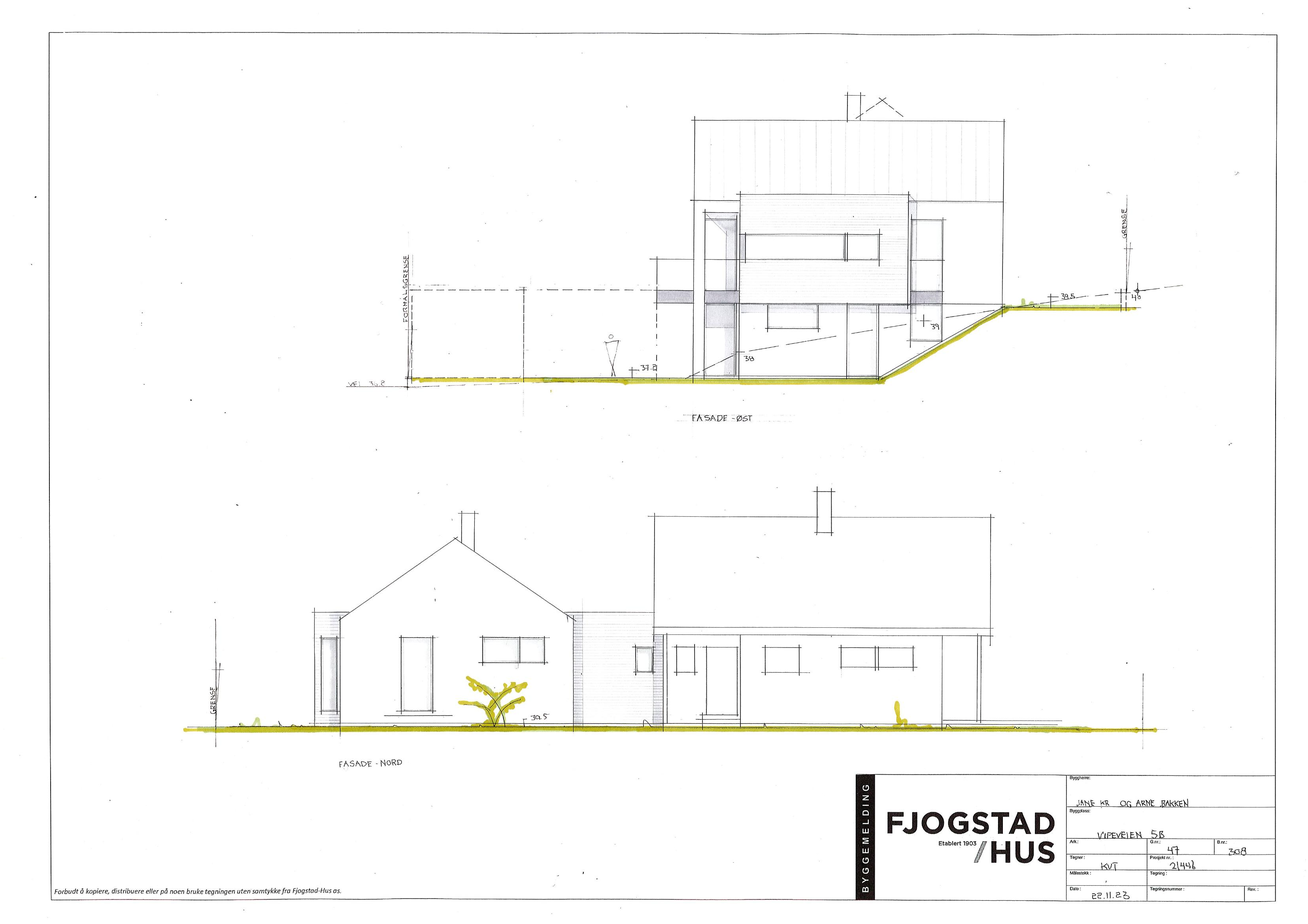fasade: (401, 90, 1145, 390), (306, 486, 1065, 738)
